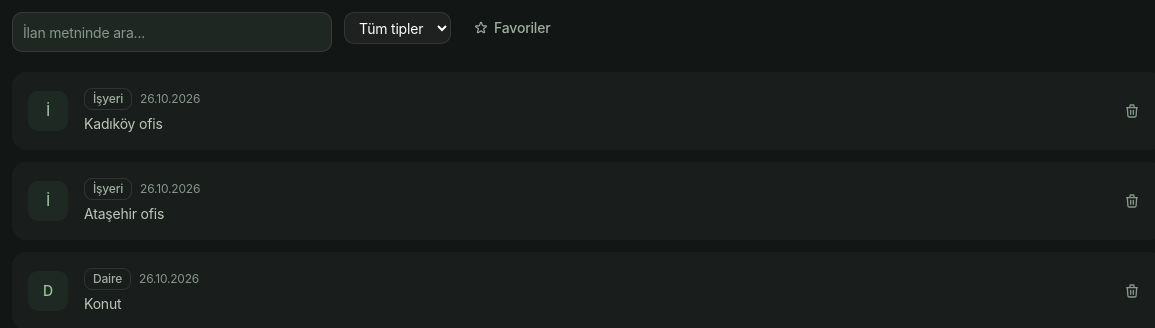
Scenario: Listing history interactions › matches Turkish and legacy property names in the same filter
Select "İşyeri" in the dropdown named "Mülk tipi filtre" at (398, 28), box 344,12 -> 451,44
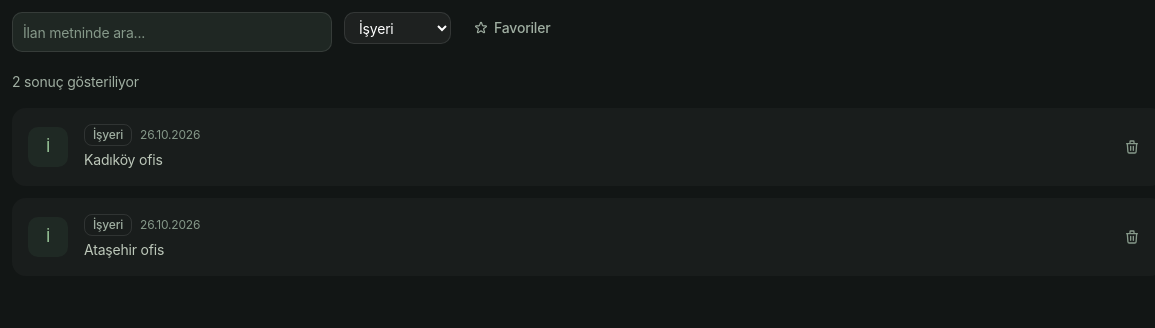
expect the text "Kadıköy ofis" is shown: met, box 84,151 -> 163,168
expect the text "Konut" is gone: met
